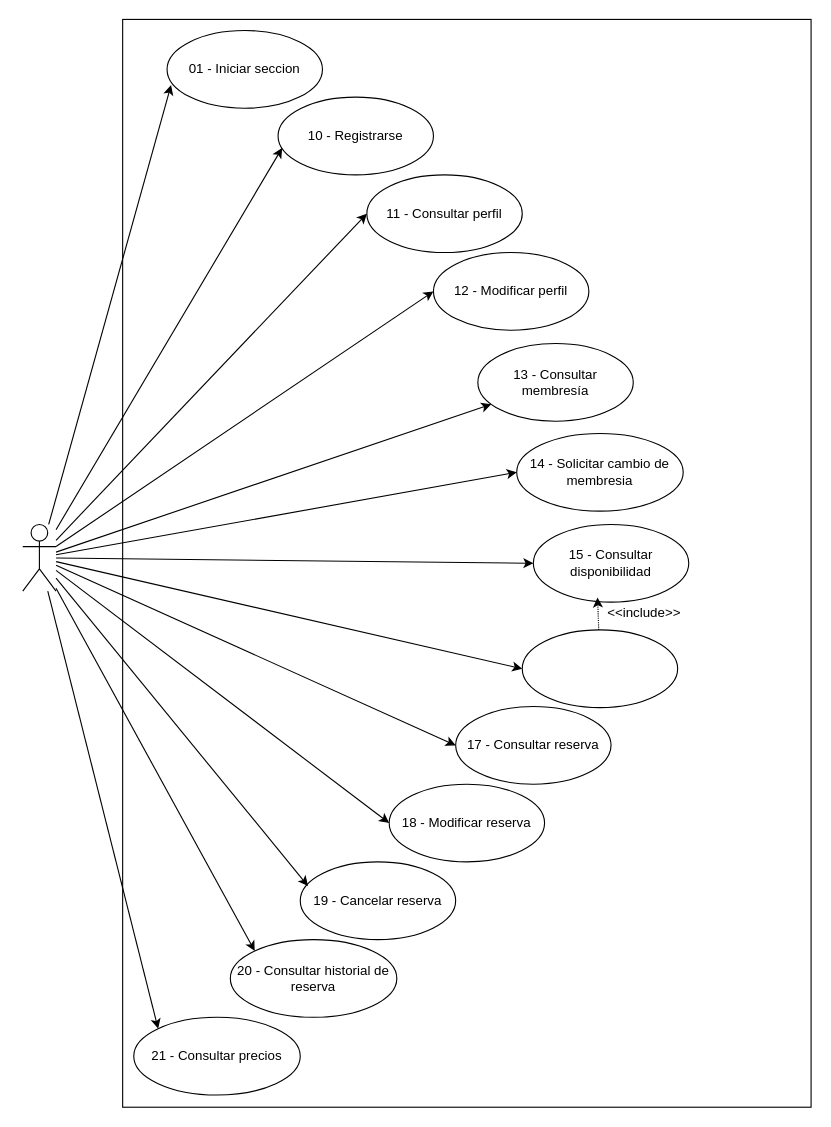
The diagram is 831 pixels wide and 1127 high, and some of its shapes have lost their labels. The shapes that lost their labels are listed below. From the top down, each one's centre as x and y in pixels, then its label:
(39,557): Cliente
(599,668): 16 - Crear reserva
